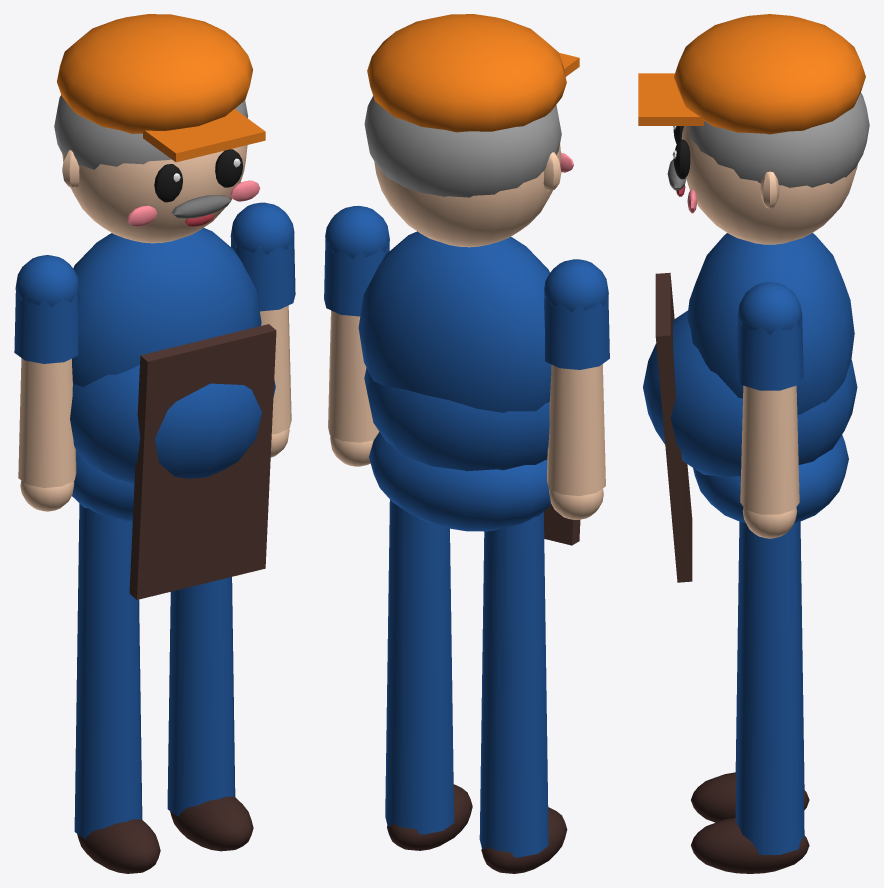
File: underworld_velvel.glb
3 renders of one model, left to right at view 1: azimuth 30°, elevation 25°; view 2: azimuth 150°, elevation 25°; view 3: azimuth 270°, elevation 25°, orthographic.
Visible parts, largest first — view 1: Body.001, Leg_R.001, Leg_L.001, Arm_R.001, Arm_L.001; view 2: Body.001, Leg_R.001, Leg_L.001, Arm_R.001, Arm_L.001; view 3: Body.001, Leg_L.001, Arm_L.001, Leg_R.001.
Part boxes in pixels (x1,y1,x2,y2): Body.001: (54, 14, 276, 599); Leg_R.001: (74, 503, 160, 873); Leg_L.001: (167, 577, 253, 851); Arm_R.001: (14, 255, 79, 511); Arm_L.001: (230, 202, 295, 457); Body.001: (358, 14, 580, 545); Leg_R.001: (479, 512, 567, 873); Leg_L.001: (385, 500, 472, 850); Arm_R.001: (544, 259, 609, 519); Arm_L.001: (324, 205, 389, 466); Body.001: (638, 14, 869, 582); Leg_L.001: (691, 521, 809, 873); Arm_L.001: (736, 282, 803, 538); Leg_R.001: (691, 521, 809, 822).
Bounding box in the file's own units: 0.6316 × 1.82 × 0.4674.
